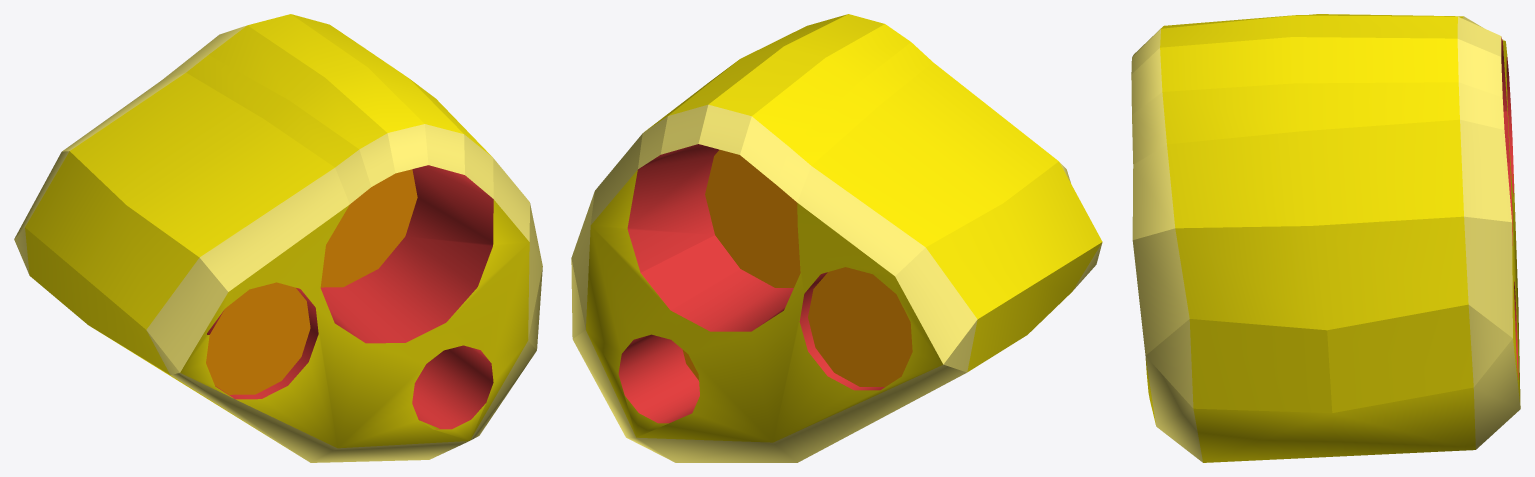
File: CIS3.fbx
The picture shows the model from 3 angles, left to right: view 1: azimuth 30°, elevation 25°; view 2: azimuth 150°, elevation 25°; view 3: azimuth 270°, elevation 25°; orthographic projection. The views are drawn at different scales.
Parts seen in each view (by area): view 1: Box001; view 2: Box001; view 3: Box001.
Part boxes in pixels (bbox=[...]): Box001: bbox=[14, 14, 542, 462]; Box001: bbox=[571, 14, 1102, 462]; Box001: bbox=[1131, 14, 1520, 462].
Bounding box in the file's own units: 667 × 579 × 508.
